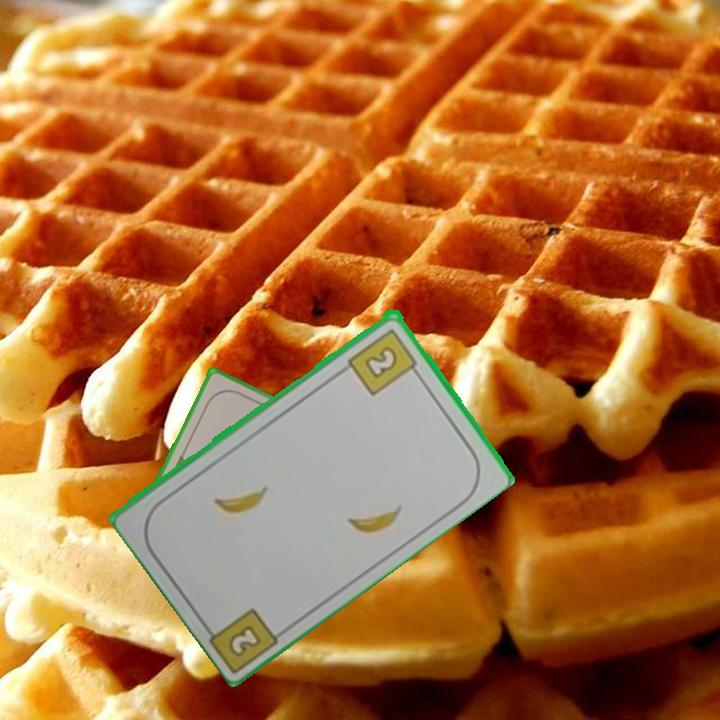2b: (344, 324, 423, 398), (224, 620, 265, 660)
